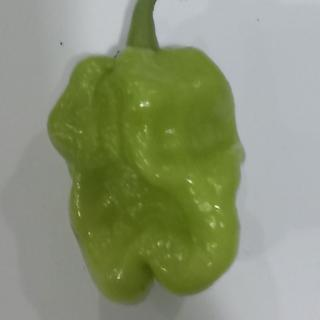Grade-A: (44, 40, 248, 304)
